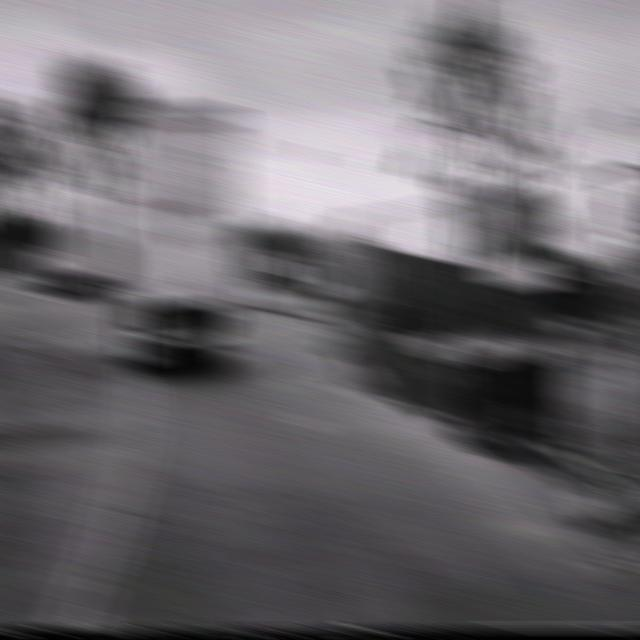stop: (438, 172, 487, 240)
